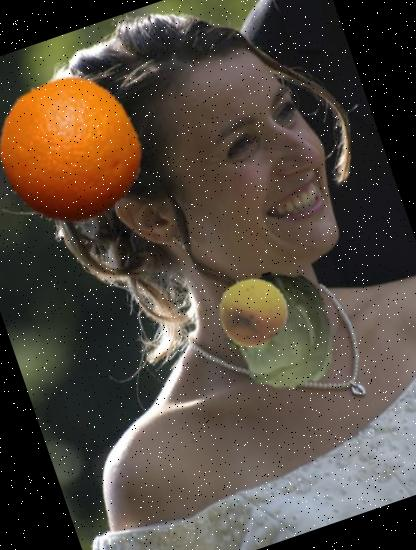Kohlrabi: (202, 256, 353, 406)
Orange: (0, 56, 162, 243)
Peach: (206, 266, 298, 358)
